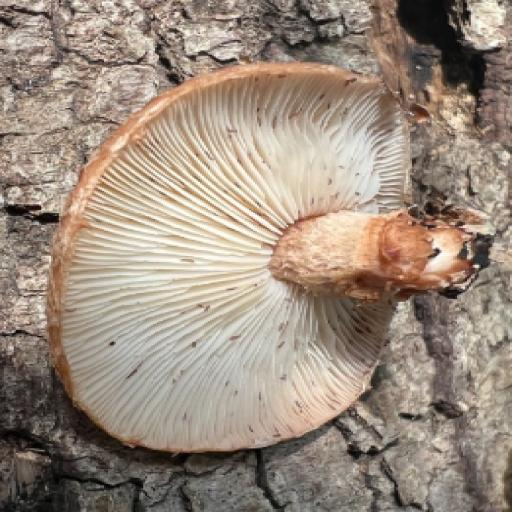Shiitake Mushroom: (44, 58, 423, 455)
